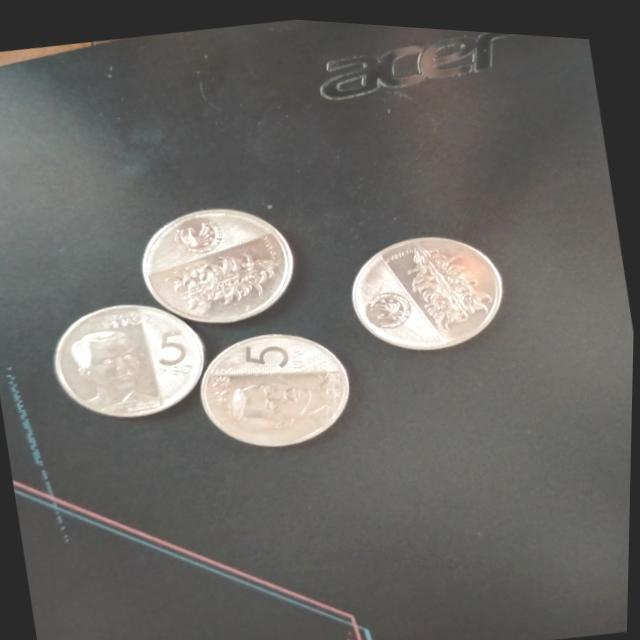5_New_Back: (394, 214, 513, 341), (152, 231, 292, 320)
5_New_Front: (133, 309, 209, 387), (231, 323, 300, 381)
